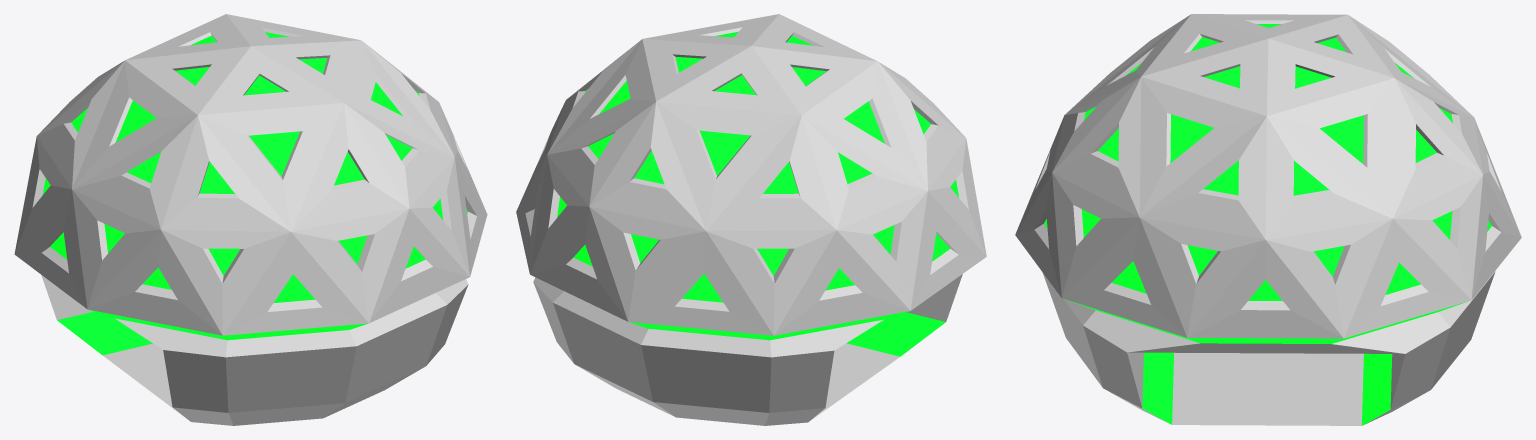
File: track1Building5.glb
3 renders of one model, left to right at view 1: azimuth 30°, elevation 25°; view 2: azimuth 150°, elevation 25°; view 3: azimuth 270°, elevation 25°, orthographic. The views are drawn at different scales.
Parts seen in each view (by area): view 1: Icosphere.001; view 2: Icosphere.001; view 3: Icosphere.001.
Boxes of the visible parts, x1,y1,x2,y2 form: Icosphere.001: (14, 14, 487, 425); Icosphere.001: (516, 14, 986, 425); Icosphere.001: (1015, 14, 1521, 425).
Bounding box in the file's own units: 1.89 × 1.44 × 1.98.
